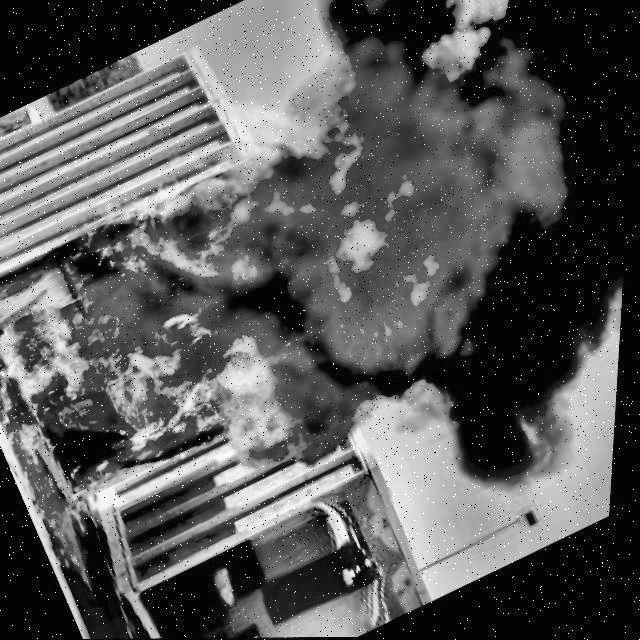Fire: (0, 9, 639, 572)
Smoke: (407, 266, 627, 523), (282, 0, 529, 106)
